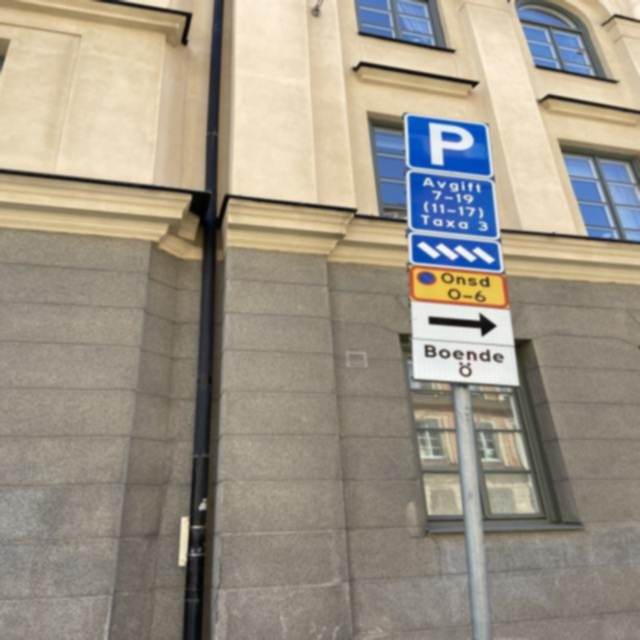P-skylt: (402, 110, 494, 180)
